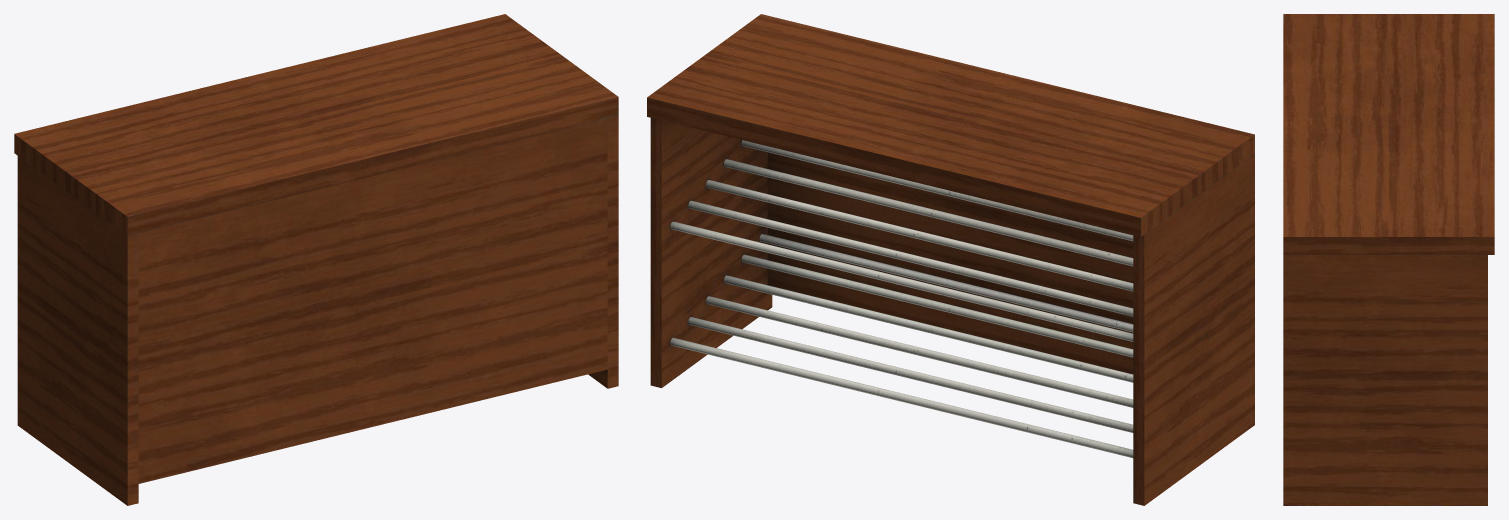
File: hall_shoe_bench_web.glb
The picture shows the model from 3 angles, left to right: view 1: azimuth 30°, elevation 25°; view 2: azimuth 150°, elevation 25°; view 3: azimuth 270°, elevation 25°; orthographic projection. The views are drawn at different scales.
Visible parts, largest first — view 1: HallShoeBench_Body; view 2: HallShoeBench_Body; view 3: HallShoeBench_Body.
Part boxes in pixels (<box>): HallShoeBench_Body: <box>14,14,618,505</box>; HallShoeBench_Body: <box>647,14,1254,505</box>; HallShoeBench_Body: <box>1283,14,1494,505</box>.
Bounding box in the file's own units: 0.8 × 0.45 × 0.32.
Materials: 1 (1 with a texture image).
